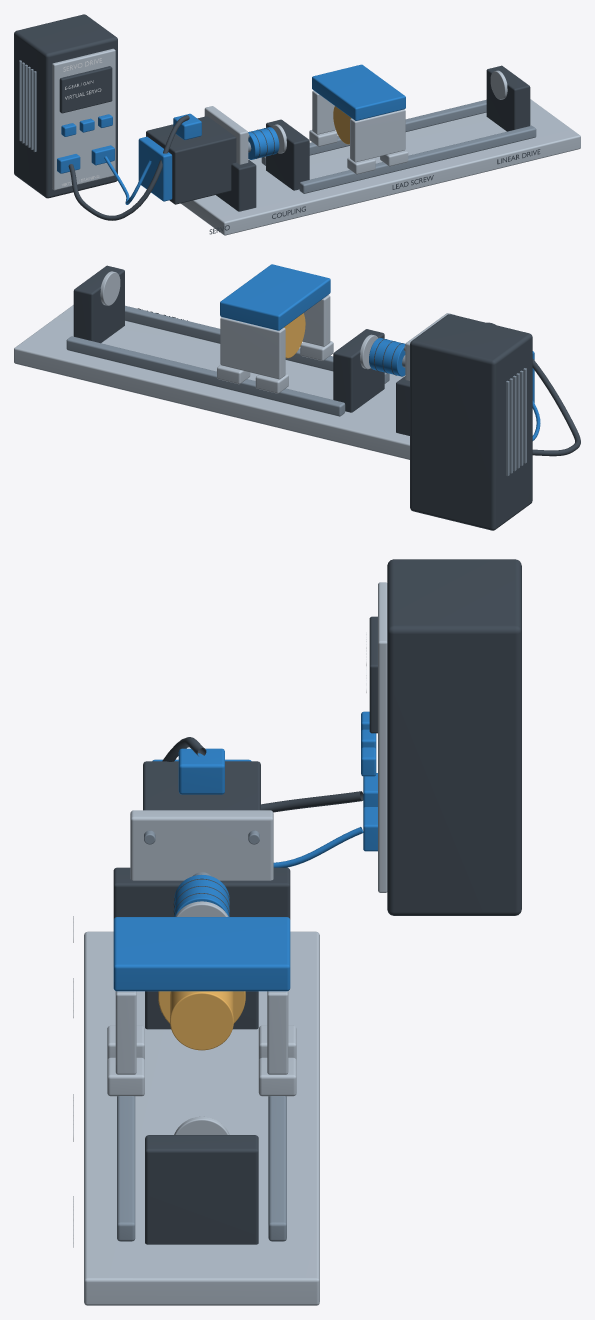
File: servo-assembly.glb
3 renders of one model, top to bottom at view 1: azimuth 30°, elevation 25°; view 2: azimuth 150°, elevation 25°; view 3: azimuth 270°, elevation 25°, orthographic. The views are drawn at different scales.
Parts seen in each view (by area): view 1: Base plate.001, SERVO DRIVER | Select to configure.001, Drive front panel.001, Servo motor housing.001, Carriage platform.001, Linear guide rail.002, Carriage side bridge.002, Bearing support.003, Drive display glass.001, Bearing support.002, Motor rear encoder.001, Linear guide rail.003 (+19 smaller); view 2: SERVO DRIVER | Select to configure.001, Base plate.001, Carriage platform.001, Linear guide rail.003, Carriage side bridge.003, Bearing support.003, Bearing support.002, Linear guide rail.002, Flexible coupling.001, Carriage side bridge.002, Motor power cable.001, Motor mount.001 (+11 smaller); view 3: SERVO DRIVER | Select to configure.001, Base plate.001, Carriage platform.001, Bearing support.003, Motor face flange.001, Motor mount.001, Servo motor housing.001, Travel nut.001, Drive front panel.001, Linear guide rail.002, Linear guide rail.003, Electrical connector.001 (+8 smaller).
Part boxes in pixels (box(x1,y1,x2,y2)): Base plate.001: box(181, 99, 580, 235); SERVO DRIVER | Select to configure.001: box(14, 14, 117, 198); Drive front panel.001: box(52, 48, 115, 190); Servo motor housing.001: box(146, 116, 236, 204); Carriage platform.001: box(312, 64, 405, 120); Linear guide rail.002: box(299, 125, 536, 193); Carriage side bridge.002: box(350, 109, 405, 162); Bearing support.003: box(486, 65, 530, 131); Drive display glass.001: box(59, 66, 112, 113); Bearing support.002: box(266, 119, 309, 190); Motor rear encoder.001: box(138, 136, 172, 201); Linear guide rail.003: box(261, 99, 486, 165); SERVO DRIVER | Select to configure.001: box(410, 314, 532, 530); Base plate.001: box(14, 305, 409, 459); Carriage platform.001: box(220, 264, 330, 330); Linear guide rail.003: box(66, 336, 345, 416); Carriage side bridge.003: box(220, 317, 285, 379); Bearing support.003: box(73, 265, 124, 343); Bearing support.002: box(333, 329, 384, 412); Linear guide rail.002: box(125, 305, 389, 383); Flexible coupling.001: box(369, 338, 405, 376); Carriage side bridge.002: box(302, 295, 330, 346); Motor power cable.001: box(486, 322, 580, 456); Motor mount.001: box(396, 376, 409, 435); SERVO DRIVER | Select to configure.001: box(387, 559, 521, 915); Base plate.001: box(84, 931, 319, 1305); Carriage platform.001: box(113, 917, 290, 991); Bearing support.003: box(145, 1135, 258, 1244); Motor face flange.001: box(130, 810, 273, 880); Motor mount.001: box(113, 867, 290, 919); Servo motor housing.001: box(143, 761, 260, 810); Travel nut.001: box(170, 991, 233, 1050); Drive front panel.001: box(378, 582, 387, 892); Linear guide rail.002: box(117, 1096, 135, 1241); Linear guide rail.003: box(268, 1096, 286, 1241); Electrical connector.001: box(178, 748, 224, 794).
Bounding box in the file's own units: 1.27 × 0.395 × 0.5331.
